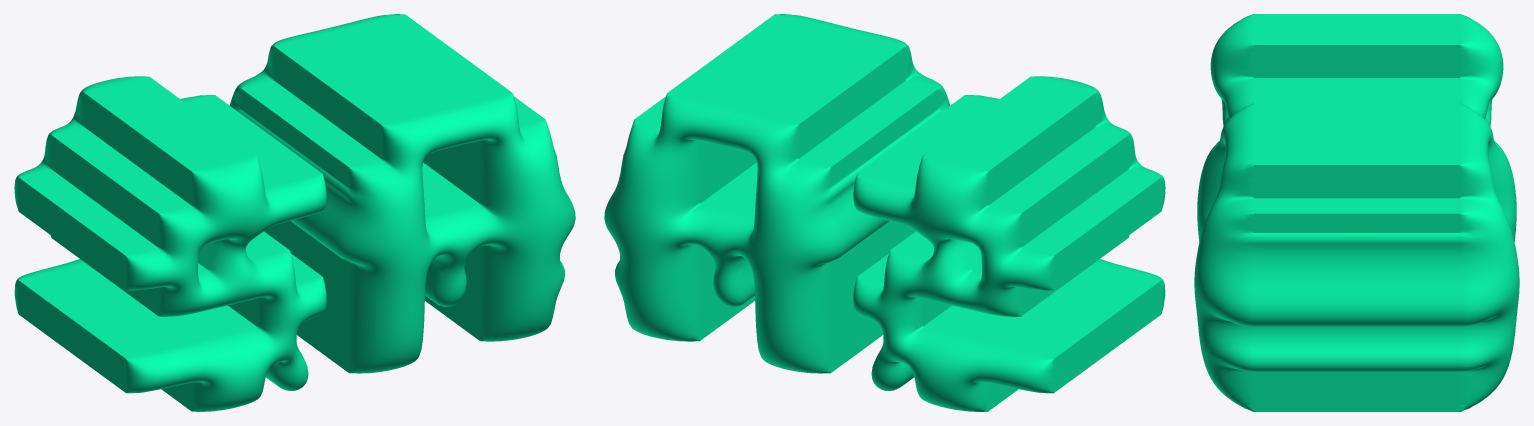
The model's file is $A-Snot.gltf.
3 renders of one model, left to right at view 1: azimuth 30°, elevation 25°; view 2: azimuth 150°, elevation 25°; view 3: azimuth 270°, elevation 25°, orthographic. The views are drawn at different scales.
Size of the model in its own units: 0.0405 by 0.0212 by 0.0267.
